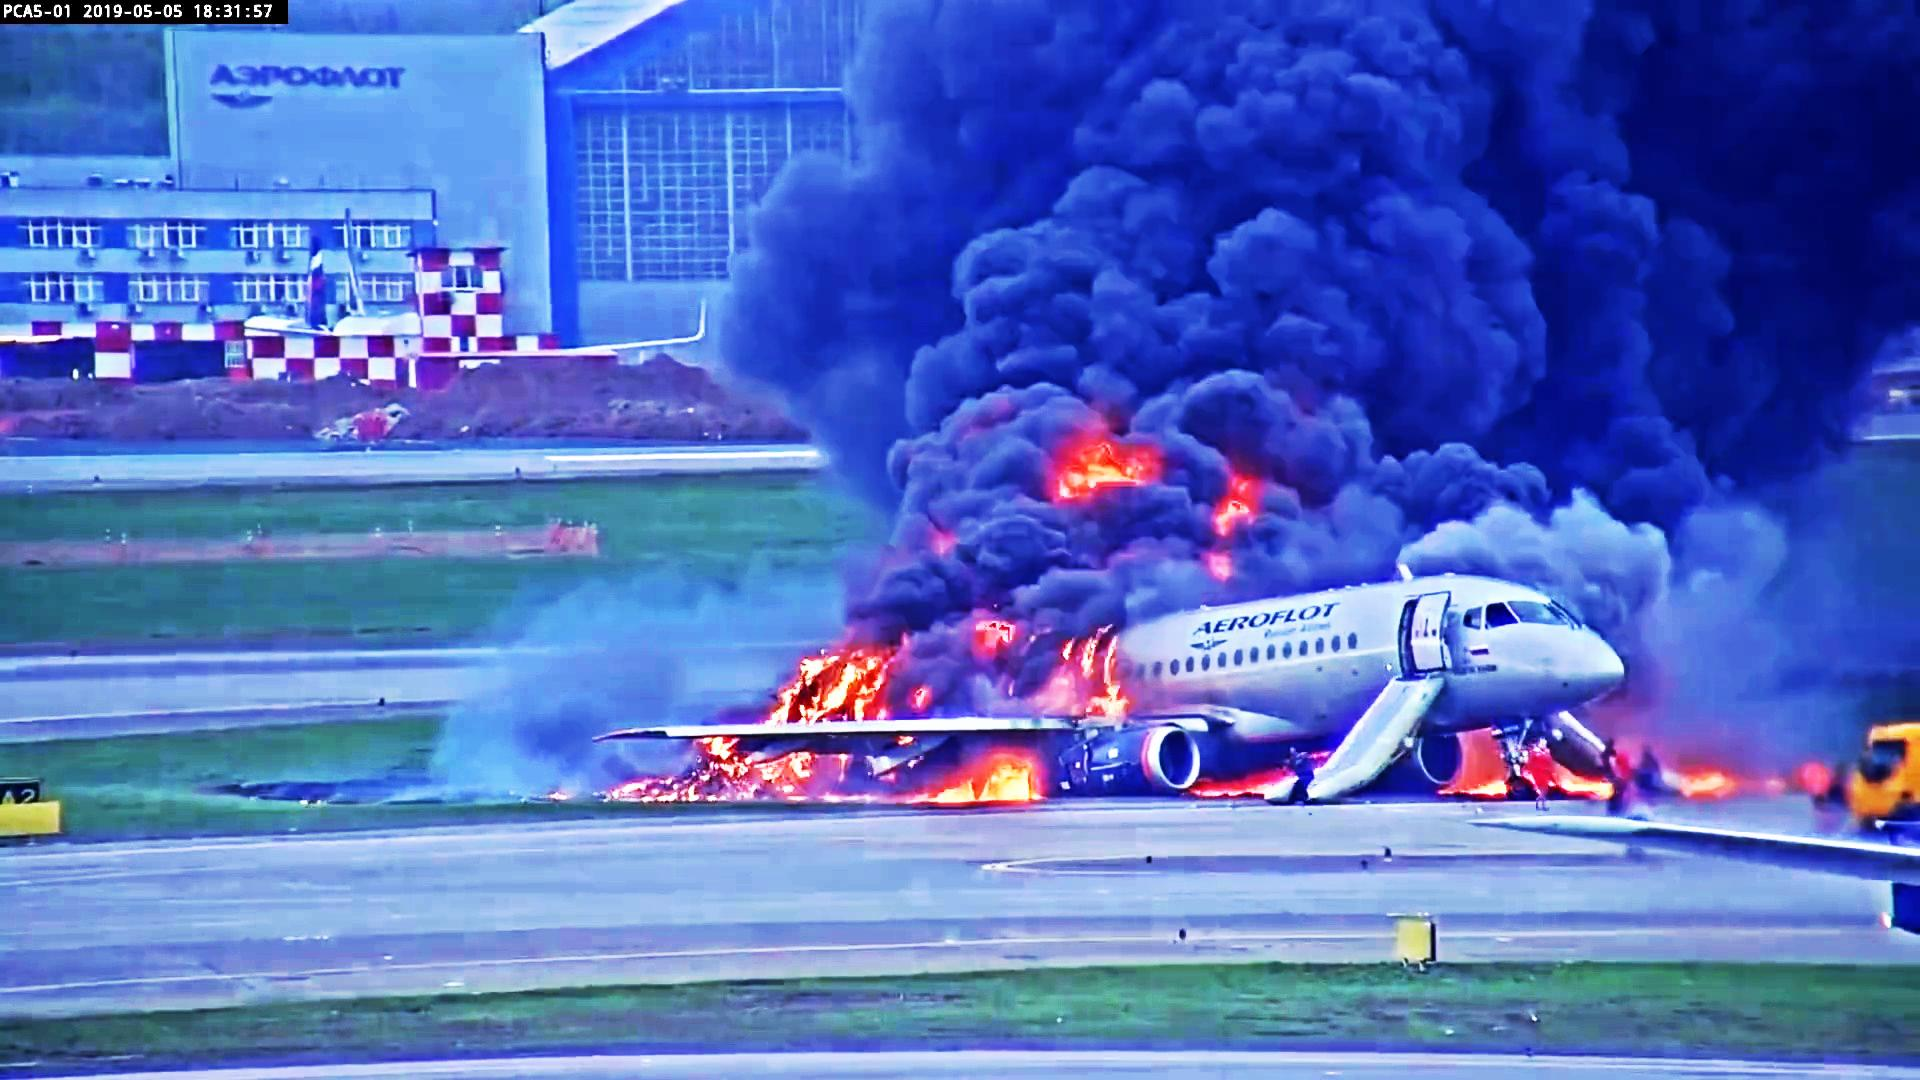fire: (773, 641, 876, 715), (695, 753, 839, 806), (955, 750, 1035, 823)
smoke: (1361, 0, 1895, 483), (931, 0, 1526, 423)
